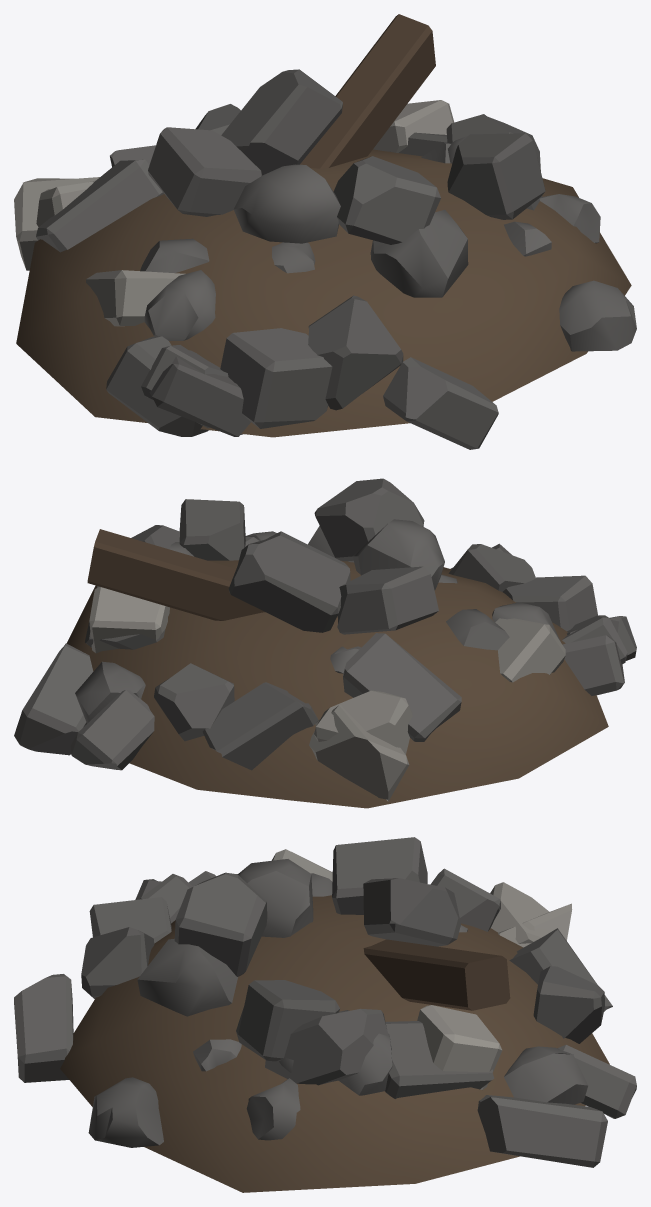
The model's file is rubble_pile.glb.
The picture shows the model from 3 angles, top to bottom: view 1: azimuth 30°, elevation 25°; view 2: azimuth 150°, elevation 25°; view 3: azimuth 270°, elevation 25°; orthographic projection. The views are drawn at different scales.
Visible parts, largest first — view 1: rubble_pile; view 2: rubble_pile; view 3: rubble_pile.
Part boxes in pixels (x1,y1,x2,y2): rubble_pile: (14,14,636,449); rubble_pile: (14,478,636,808); rubble_pile: (14,837,636,1192).
Size of what is drawn, in the model's own units: 2.68 by 1.04 by 2.78.
